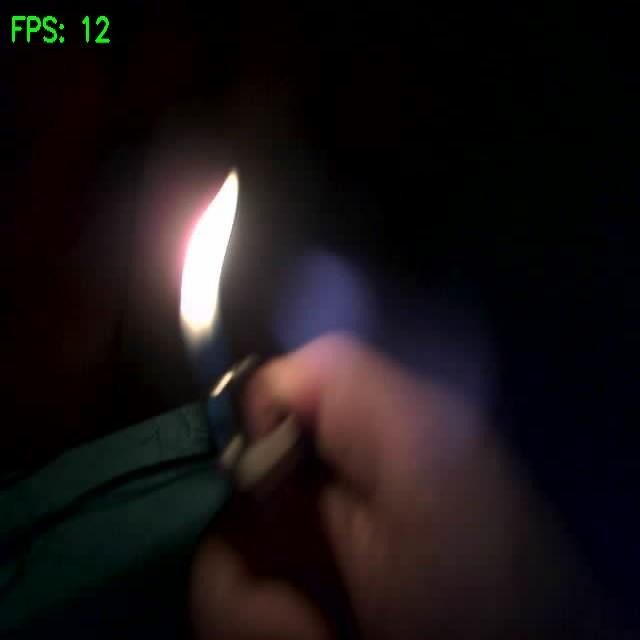fire: (180, 171, 238, 341)
